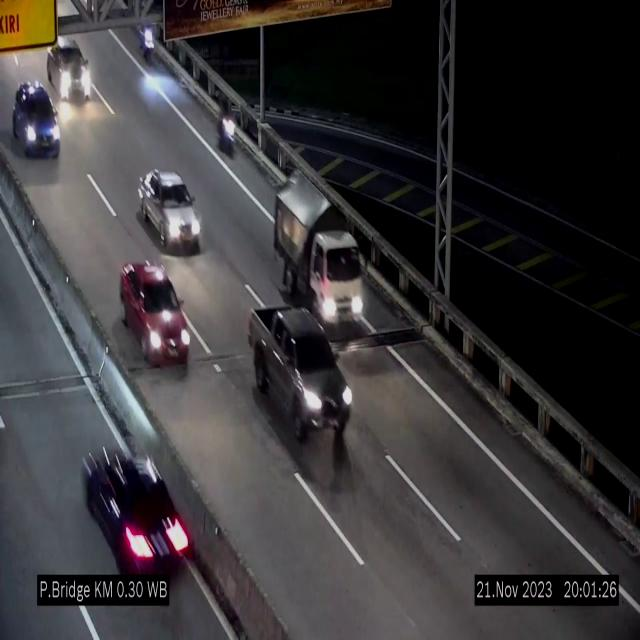Car: (76, 420, 208, 594), (248, 304, 352, 444), (120, 261, 190, 366), (138, 169, 201, 252), (12, 83, 60, 158), (48, 36, 96, 108)
Motorcycle: (132, 9, 164, 77), (217, 93, 235, 162)
Truck: (274, 180, 364, 331)
